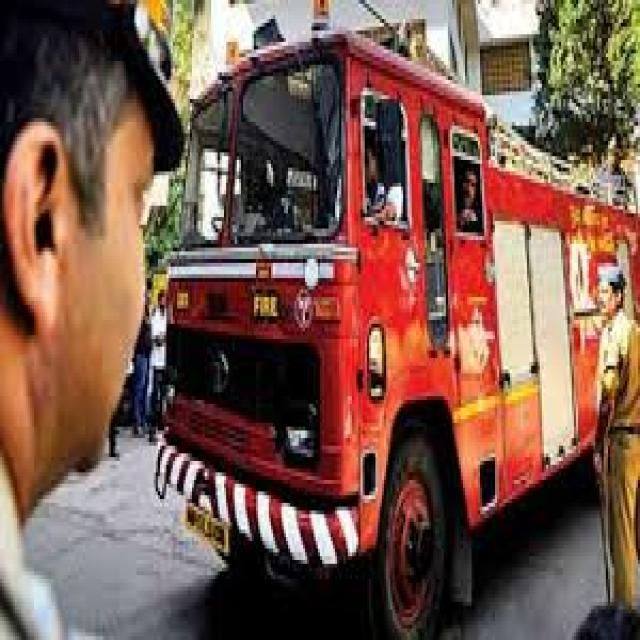Fire_brigade: (173, 50, 638, 617)
